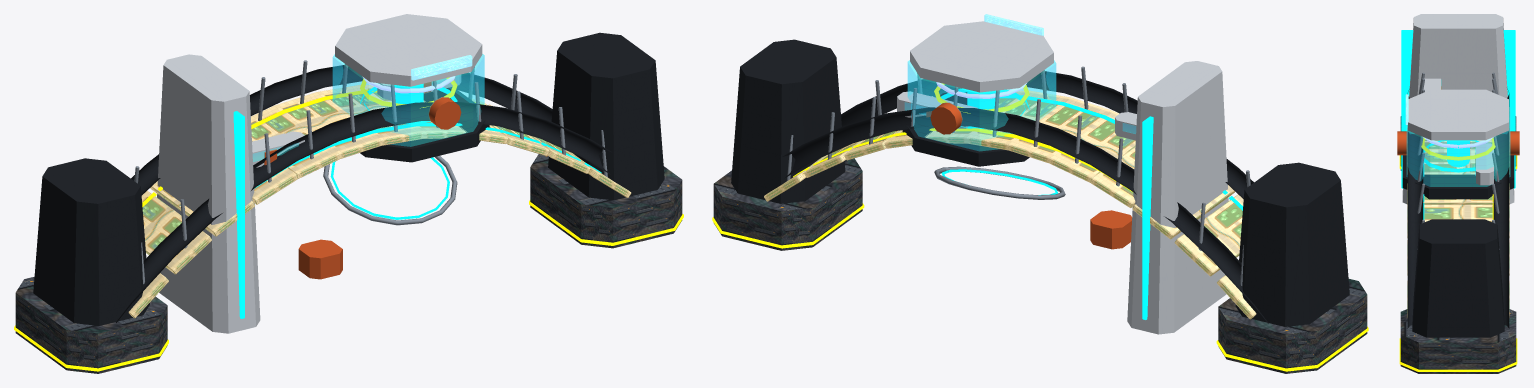
File: interior_setpiece_01_winner_ring_skybridge_viaduct.glb
The picture shows the model from 3 angles, left to right: view 1: azimuth 30°, elevation 25°; view 2: azimuth 150°, elevation 25°; view 3: azimuth 270°, elevation 25°; orthographic projection. The views are drawn at different scales.
Parts seen in each view (by area): view 1: Setpiece01_C02_gunmetal, Setpiece01_C02_aero_white, Setpiece01_C02_cliff_basalt, Setpiece01_C02_promenade_paving, Setpiece01_C02_glass_cyan, Setpiece01_C02_steel_machined, Setpiece01_C02_led_cyan, Setpiece01_C02_accent_orange, Setpiece01_C02_led_amber, Setpiece01_C02_marquee; view 2: Setpiece01_C02_gunmetal, Setpiece01_C02_aero_white, Setpiece01_C02_cliff_basalt, Setpiece01_C02_promenade_paving, Setpiece01_C02_glass_cyan, Setpiece01_C02_steel_machined, Setpiece01_C02_led_cyan, Setpiece01_C02_led_amber, Setpiece01_C02_accent_orange; view 3: Setpiece01_C02_gunmetal, Setpiece01_C02_aero_white, Setpiece01_C02_cliff_basalt, Setpiece01_C02_glass_cyan, Setpiece01_C02_led_cyan, Setpiece01_C02_promenade_paving, Setpiece01_C02_led_amber, Setpiece01_C02_steel_machined, Setpiece01_C02_accent_orange, Setpiece01_C02_led_uv, Setpiece01_C02_marquee.
Boxes of the visible parts, x1,y1,x2,y2 form: Setpiece01_C02_gunmetal: [33, 32, 678, 325]; Setpiece01_C02_aero_white: [157, 14, 482, 333]; Setpiece01_C02_cliff_basalt: [15, 154, 682, 373]; Setpiece01_C02_promenade_paving: [128, 85, 631, 318]; Setpiece01_C02_glass_cyan: [253, 54, 484, 161]; Setpiece01_C02_steel_machined: [134, 60, 607, 284]; Setpiece01_C02_led_cyan: [233, 84, 601, 318]; Setpiece01_C02_accent_orange: [264, 82, 461, 279]; Setpiece01_C02_led_amber: [14, 77, 683, 371]; Setpiece01_C02_marquee: [411, 55, 472, 80]; Setpiece01_C02_gunmetal: [717, 39, 1349, 326]; Setpiece01_C02_aero_white: [897, 21, 1228, 334]; Setpiece01_C02_cliff_basalt: [713, 158, 1367, 373]; Setpiece01_C02_promenade_paving: [764, 90, 1256, 319]; Setpiece01_C02_glass_cyan: [905, 60, 1135, 151]; Setpiece01_C02_steel_machined: [787, 66, 1250, 285]; Setpiece01_C02_led_cyan: [941, 88, 1242, 319]; Setpiece01_C02_led_amber: [712, 83, 1368, 371]; Setpiece01_C02_accent_orange: [926, 102, 1132, 249]; Setpiece01_C02_gunmetal: [1402, 89, 1514, 337]; Setpiece01_C02_aero_white: [1402, 14, 1514, 203]; Setpiece01_C02_cliff_basalt: [1400, 116, 1516, 373]; Setpiece01_C02_glass_cyan: [1406, 79, 1510, 186]; Setpiece01_C02_led_cyan: [1401, 30, 1515, 219]; Setpiece01_C02_promenade_paving: [1407, 140, 1509, 317]; Setpiece01_C02_led_amber: [1399, 138, 1517, 371]; Setpiece01_C02_steel_machined: [1417, 72, 1499, 249]; Setpiece01_C02_accent_orange: [1397, 86, 1519, 171]; Setpiece01_C02_led_uv: [1423, 137, 1493, 148]; Setpiece01_C02_marquee: [1405, 94, 1408, 124].
Bounding box in the file's own units: 67.2 × 24.25 × 14.8.
11 materials, 11 textured.
